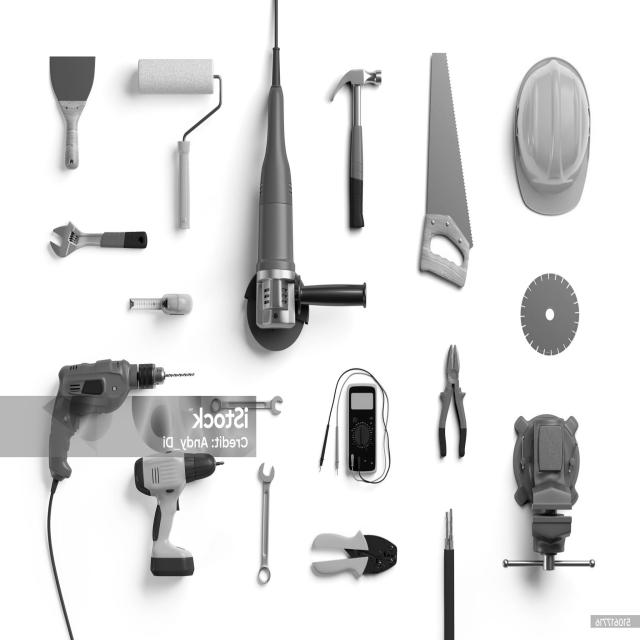angle_grinder: (231, 0, 380, 357)
corless_drill: (117, 448, 227, 605)
electric drill: (8, 357, 194, 640)
hammer: (320, 42, 393, 239)
helmet: (493, 39, 608, 236)
measuring_tape: (106, 285, 215, 328)
multimeter: (297, 348, 407, 501)
paint_roller: (125, 34, 242, 257)
pliers: (291, 523, 408, 606), (428, 333, 487, 476)
saw: (408, 37, 498, 315)
trowel: (38, 28, 108, 184)
vise: (491, 392, 599, 606)
wrench: (37, 205, 152, 266), (241, 446, 284, 601), (197, 383, 290, 430)
